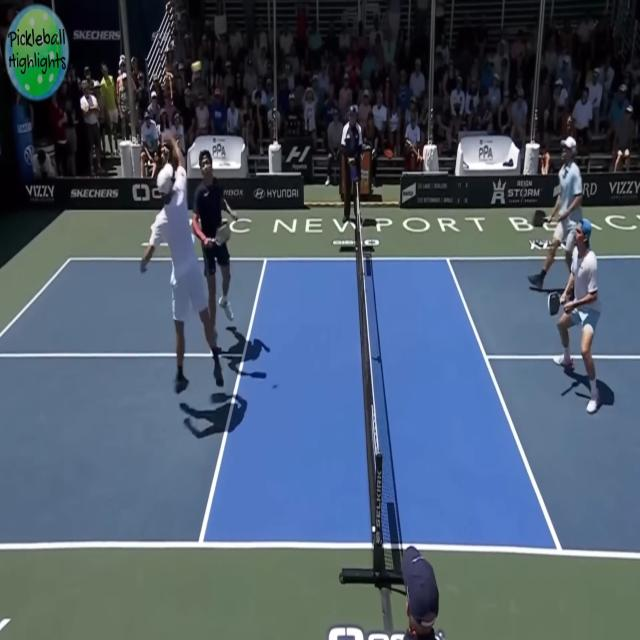ball: (190, 56, 201, 77)
